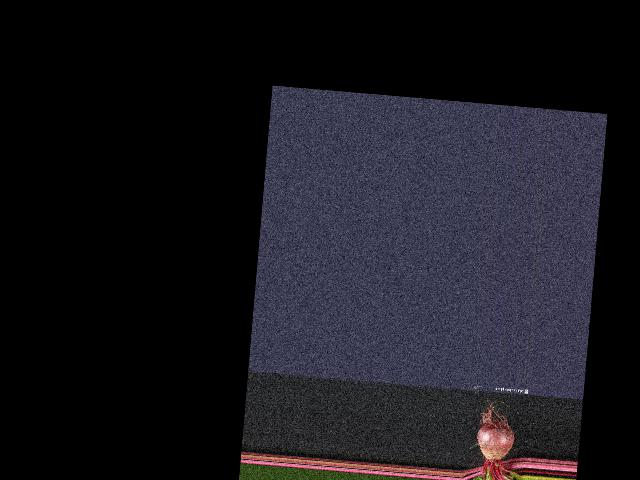beet: (472, 396, 530, 480)
